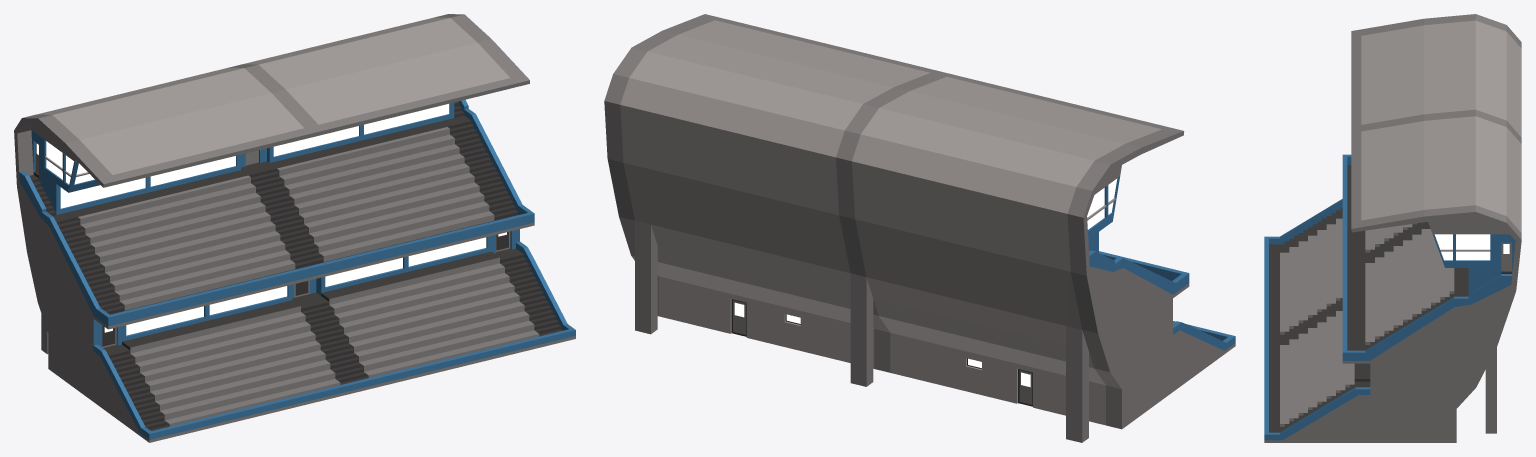
File: racing-tribune-streight-double.glb
The picture shows the model from 3 angles, left to right: view 1: azimuth 30°, elevation 25°; view 2: azimuth 150°, elevation 25°; view 3: azimuth 270°, elevation 25°; orthographic projection. The views are drawn at different scales.
Visible parts, largest first — view 1: tribune-streight-double; view 2: tribune-streight-double; view 3: tribune-streight-double.
Boxes of the visible parts, x1=… form: tribune-streight-double: x1=14, y1=14, x2=575, y2=442; tribune-streight-double: x1=604, y1=14, x2=1235, y2=442; tribune-streight-double: x1=1264, y1=14, x2=1521, y2=442.
Size of the model in its own units: 30 by 16.34 by 16.5.
